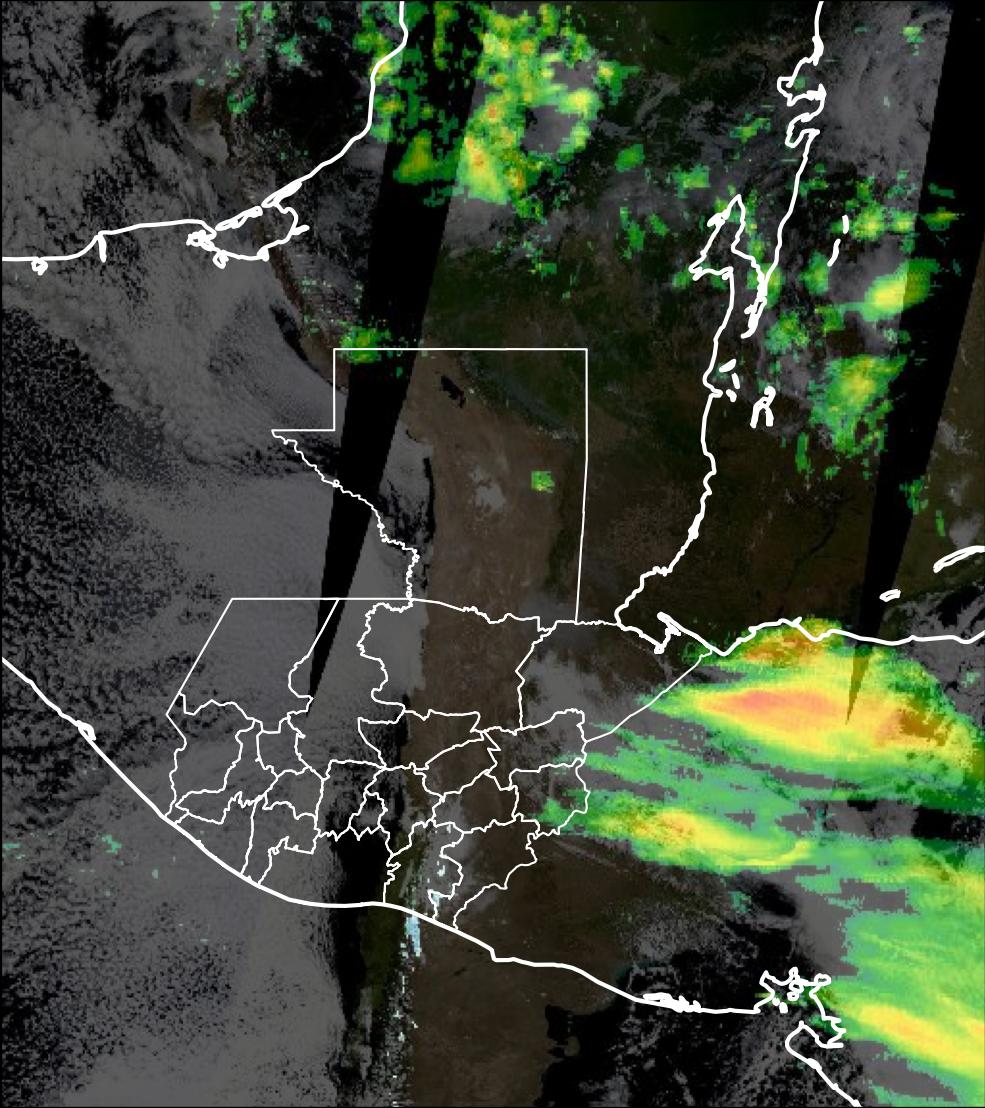precipitacion: (696, 680, 974, 774)
